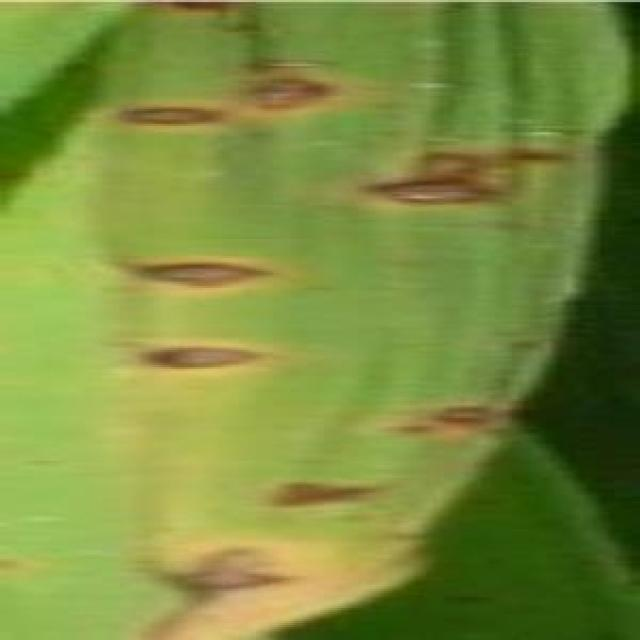Brown_Spot: (159, 546, 420, 640), (112, 253, 279, 298), (111, 337, 271, 374), (361, 175, 502, 212), (416, 144, 578, 172), (265, 479, 393, 514), (243, 80, 331, 124), (112, 100, 225, 130), (136, 0, 240, 27), (422, 397, 499, 432), (235, 57, 333, 78)
